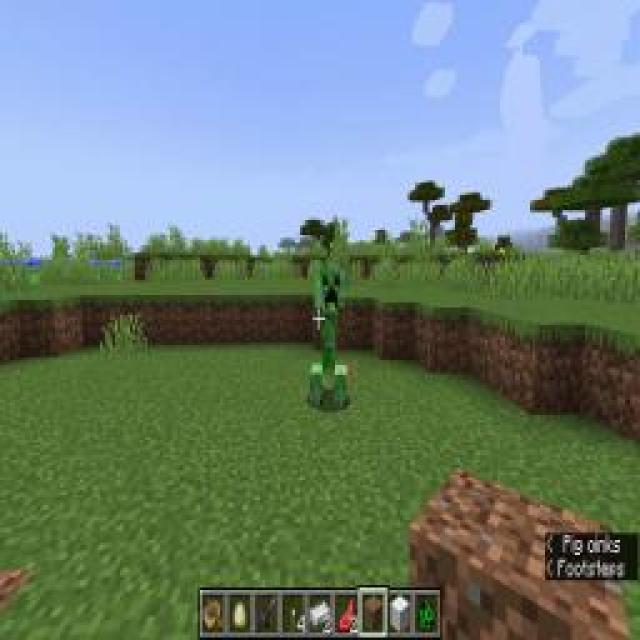Creeper: (308, 258, 350, 412)
